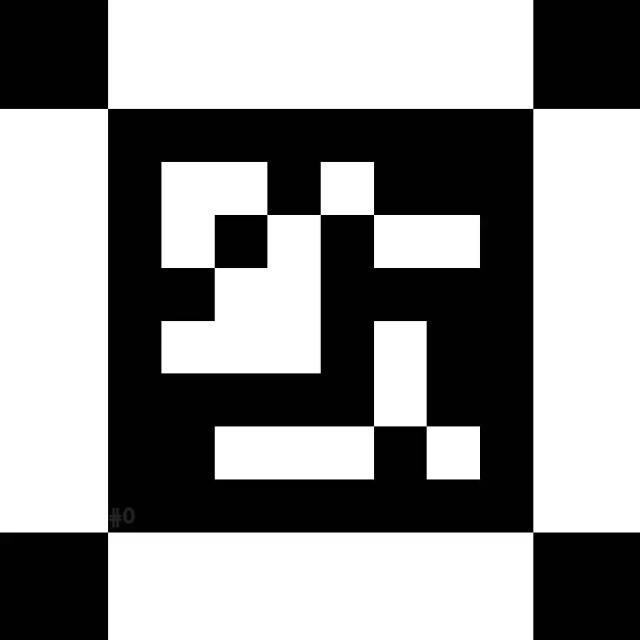aruco: (109, 115, 531, 528)
